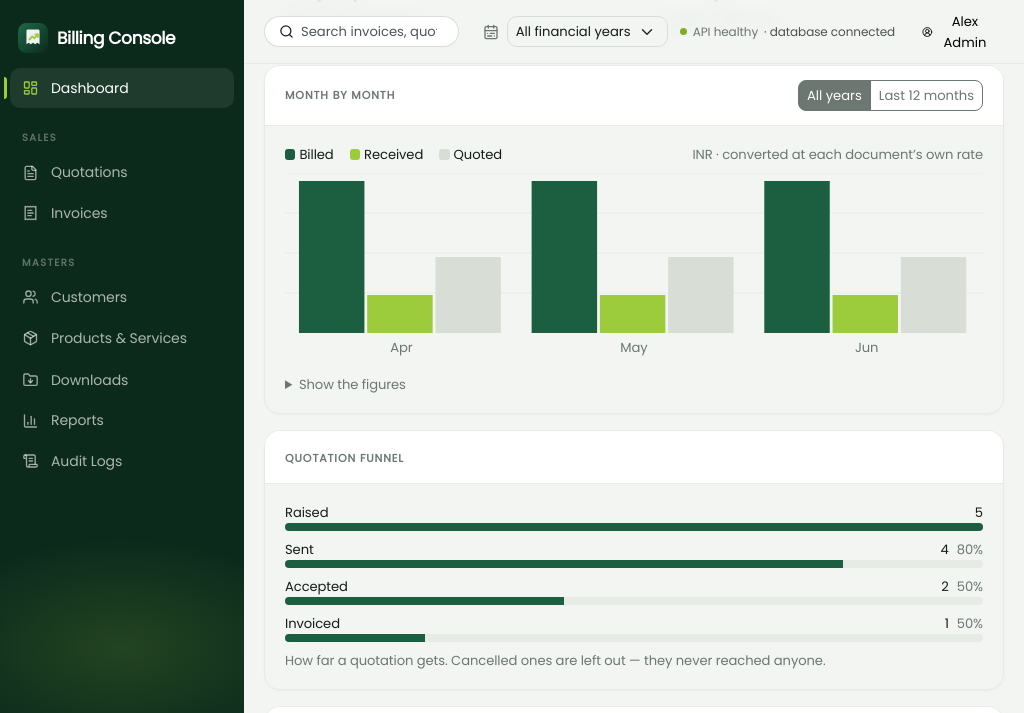
Scenario: the dashboard › offers the chart figures as a table, not only as bars
(page scrolled)
Click the heading "Show the figures": x=352, y=385 [299,375,406,394]
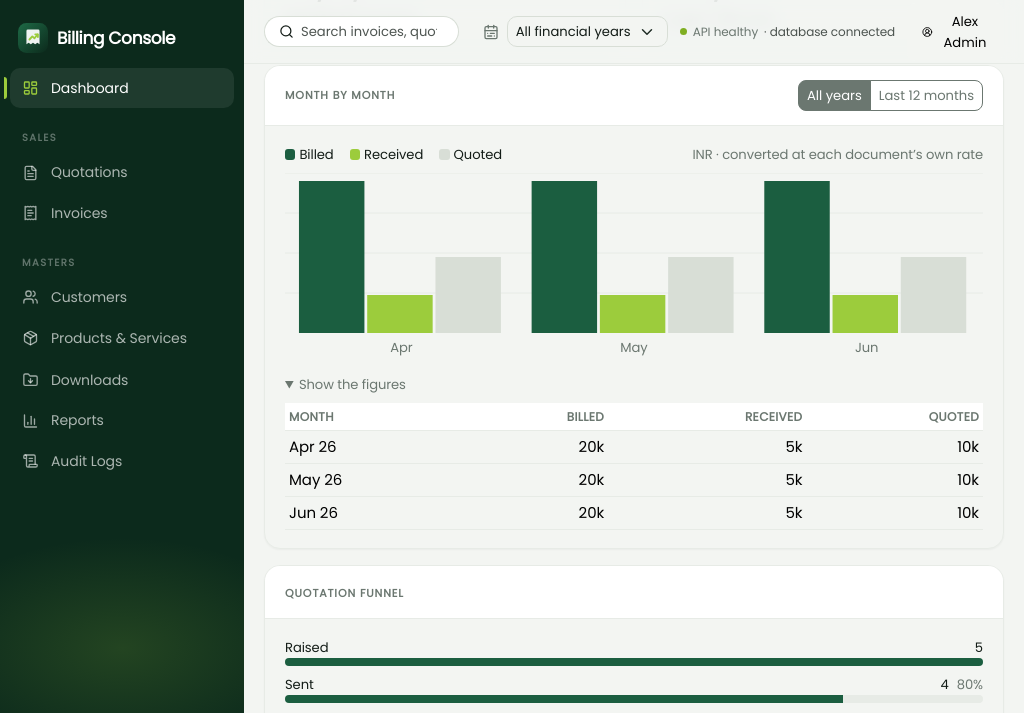
Now the column heading "Billed" is shown, box [470,403,608,431]
Now the column heading "Apr 26" is shown, box [285,431,470,464]
